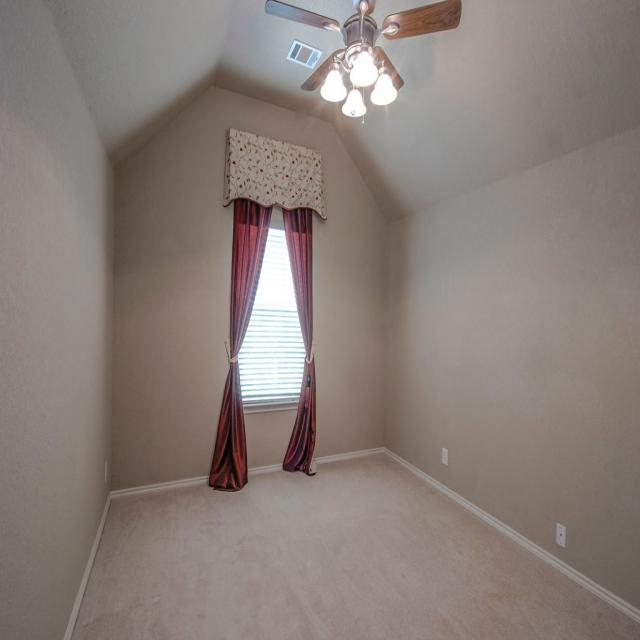fan_off: (264, 0, 469, 90)
